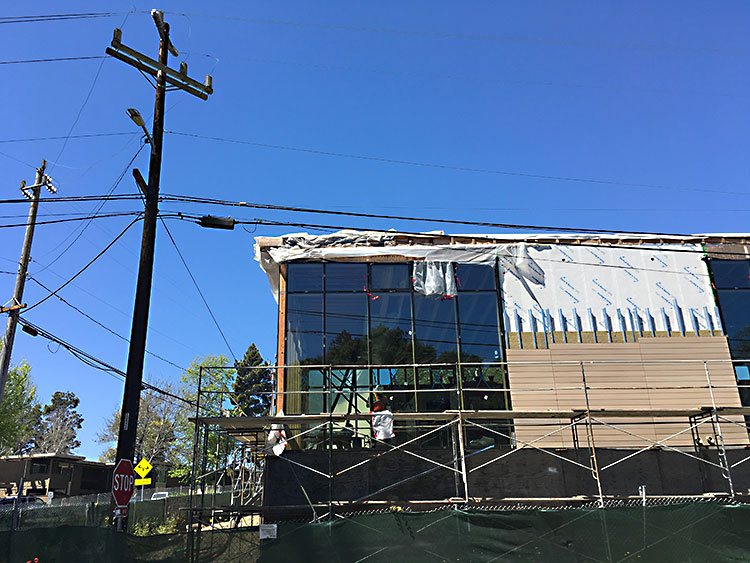utility_pole: (98, 6, 225, 152)
